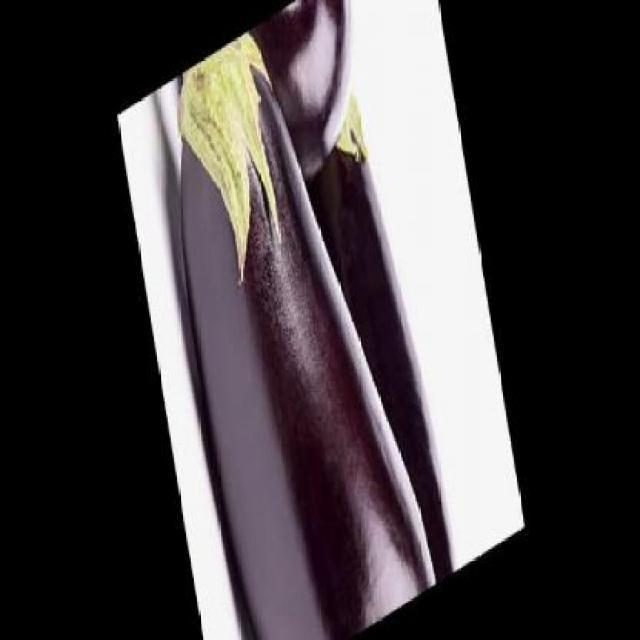eggplant: (176, 0, 459, 638), (153, 0, 436, 638)
